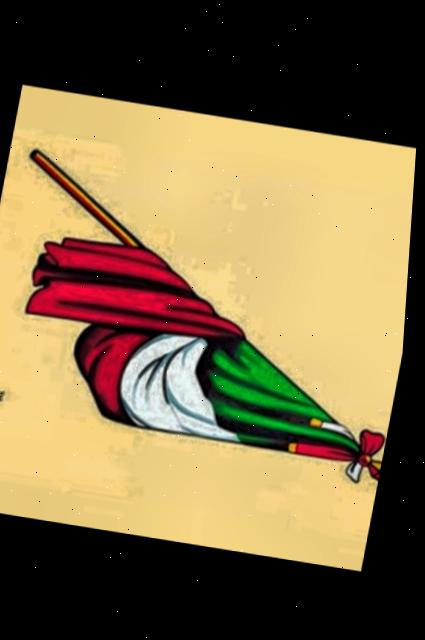La Bandera: (0, 84, 421, 568)
